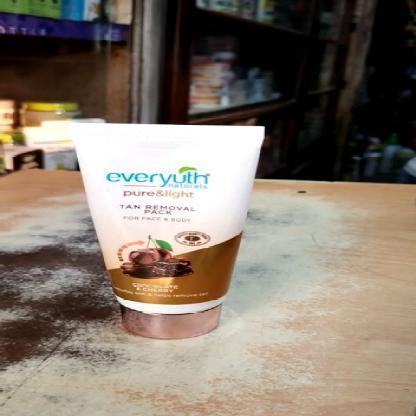EY TAN CHOCO CHERRY PACK 50G: (68, 125, 266, 341)
